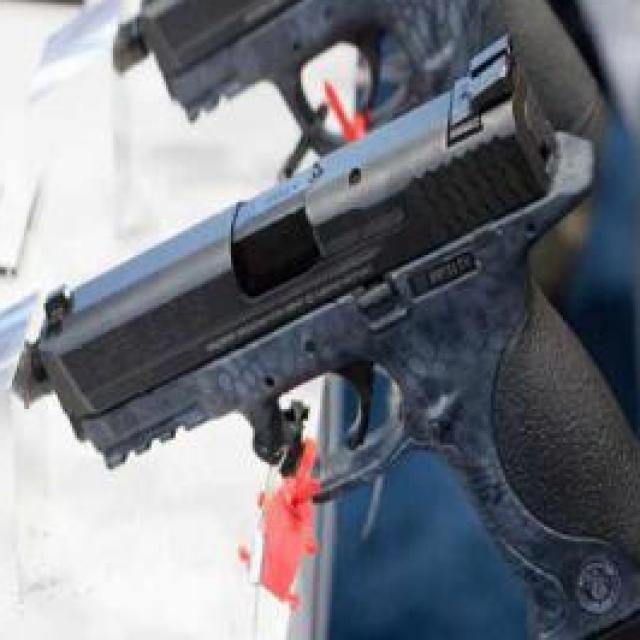pistol: (22, 31, 640, 635)
